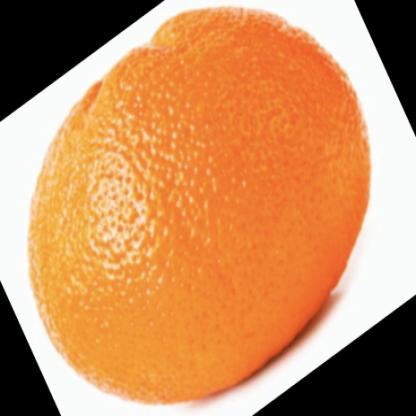fresh: (30, 8, 369, 404)
